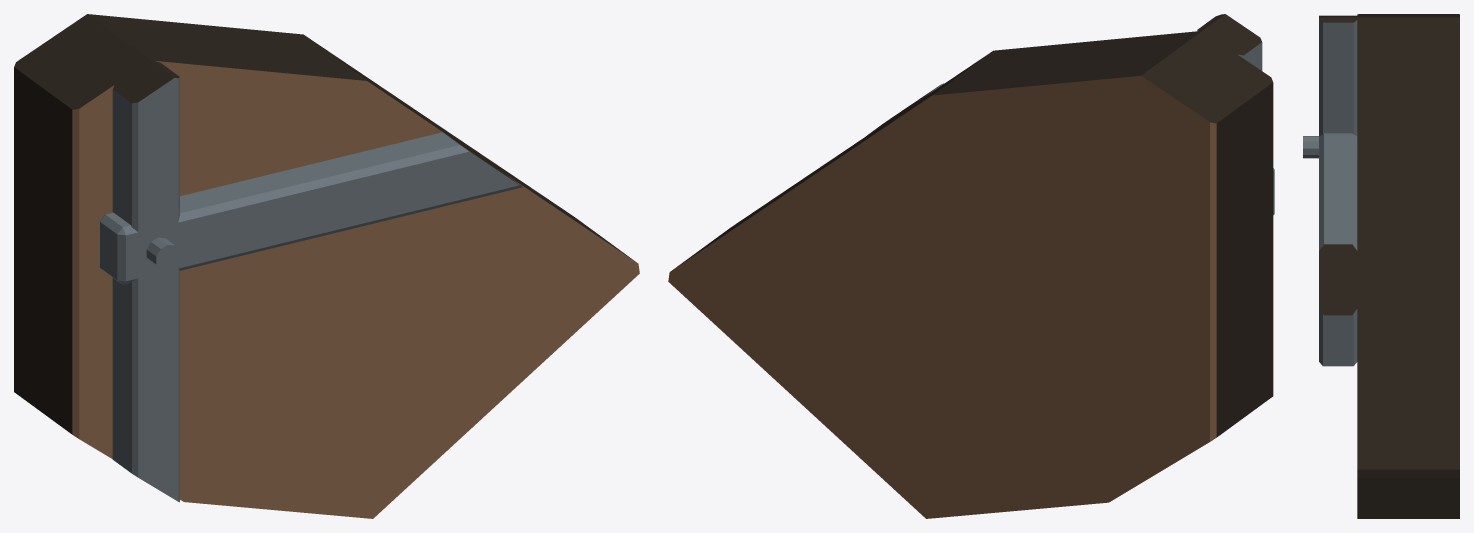
Rendered from SM_DoorShard_01_21.fbx.
3 views of the same model, side by side, from view 1: azimuth 30°, elevation 25°; view 2: azimuth 150°, elevation 25°; view 3: azimuth 270°, elevation 25° (orthographic). The views are drawn at different scales.
Visible parts, largest first — view 1: SM_DoorShard_01_21; view 2: SM_DoorShard_01_21; view 3: SM_DoorShard_01_21.
Part boxes in pixels (bbox=[...]): SM_DoorShard_01_21: bbox=[14, 14, 639, 518]; SM_DoorShard_01_21: bbox=[668, 14, 1274, 518]; SM_DoorShard_01_21: bbox=[1303, 14, 1459, 518].
Size of the model in its own units: 82.19 by 24.5 by 71.3.
